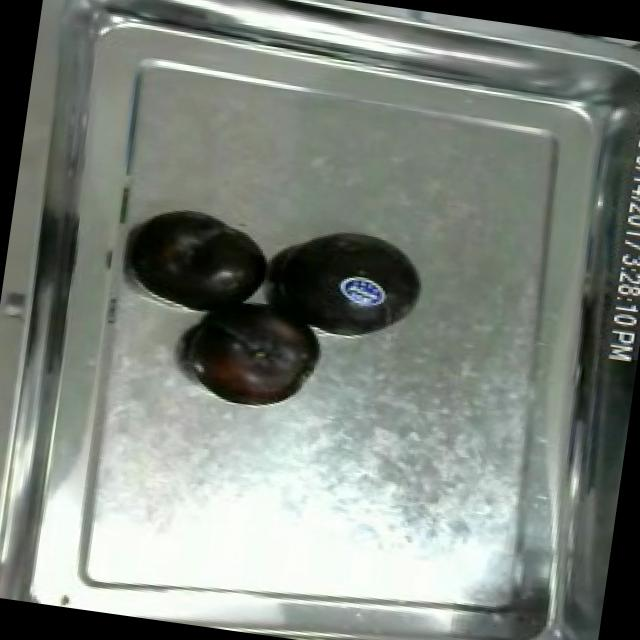Fruit: (266, 215, 440, 352), (124, 200, 279, 324), (177, 292, 326, 416), (0, 543, 15, 599)
